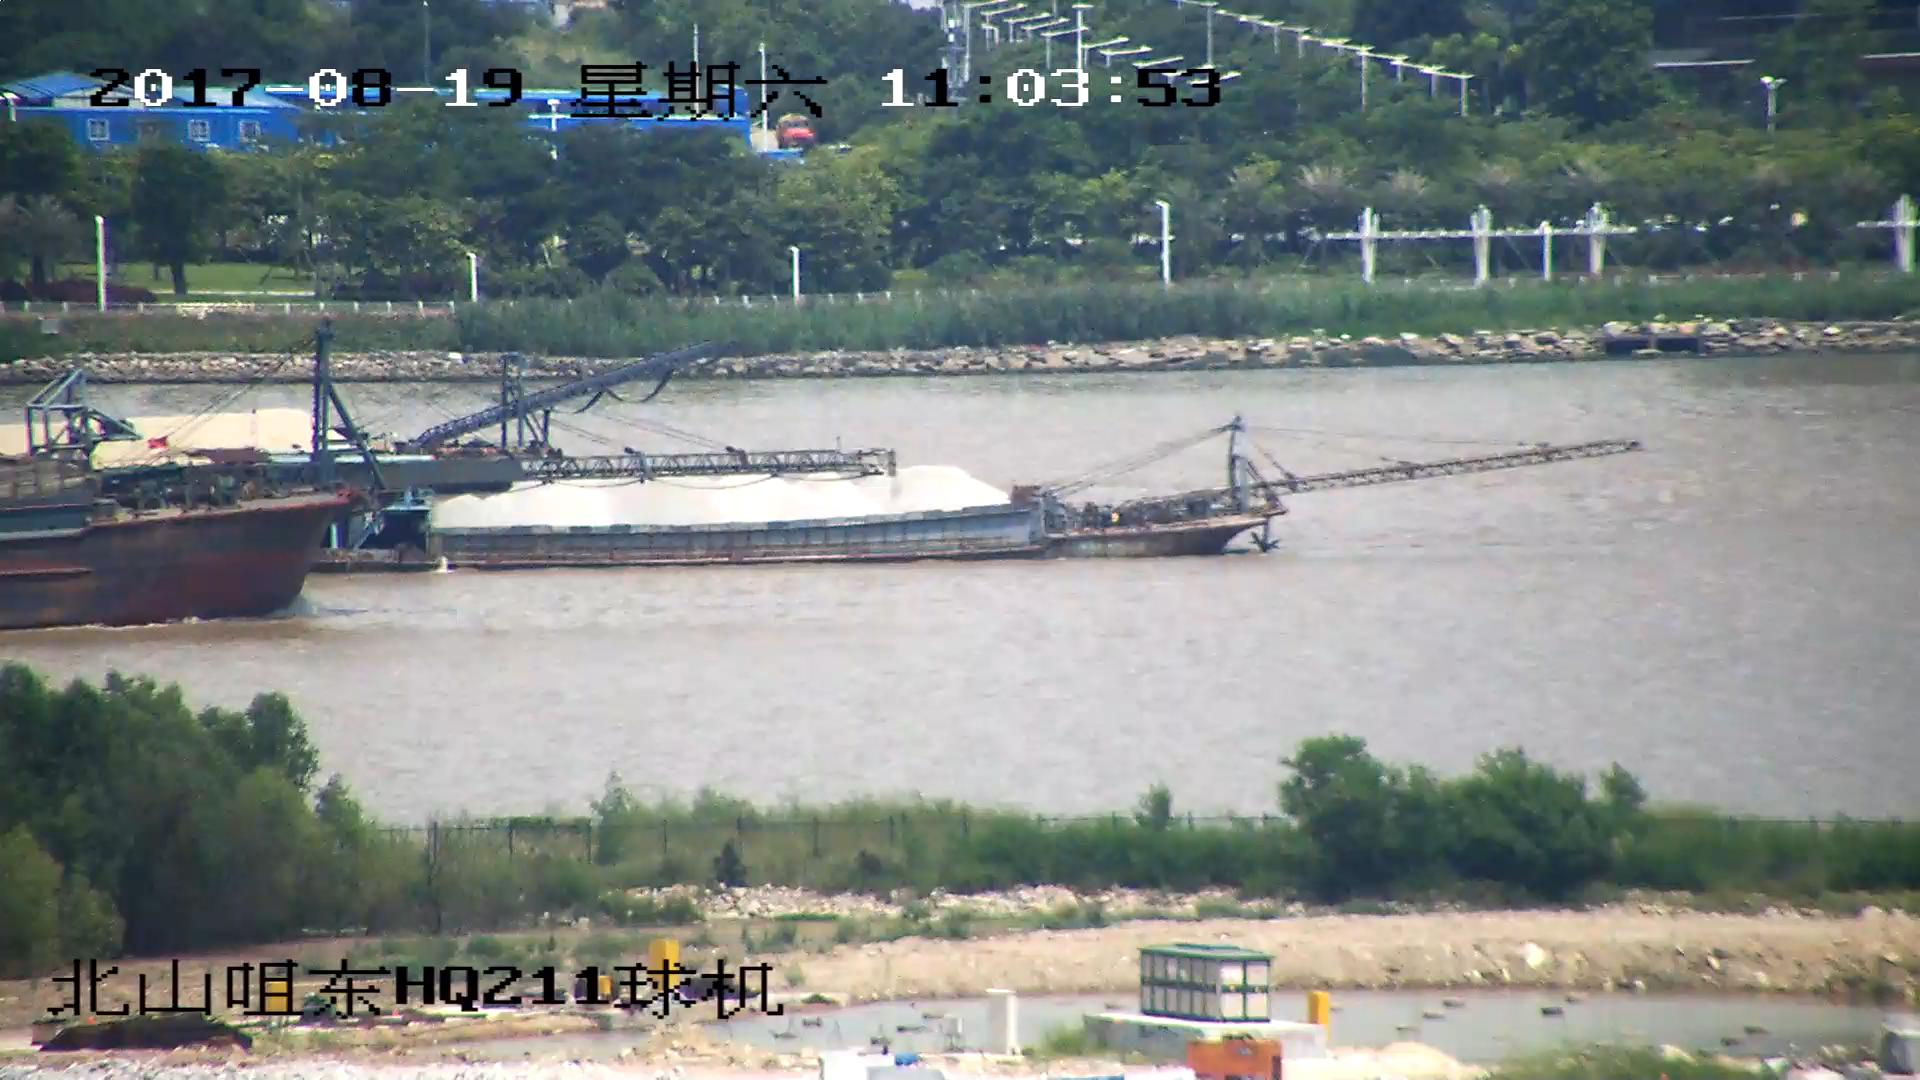bulk cargo carrier: (1, 450, 893, 631)
ore carrier: (315, 430, 1640, 570), (1, 338, 725, 488)
